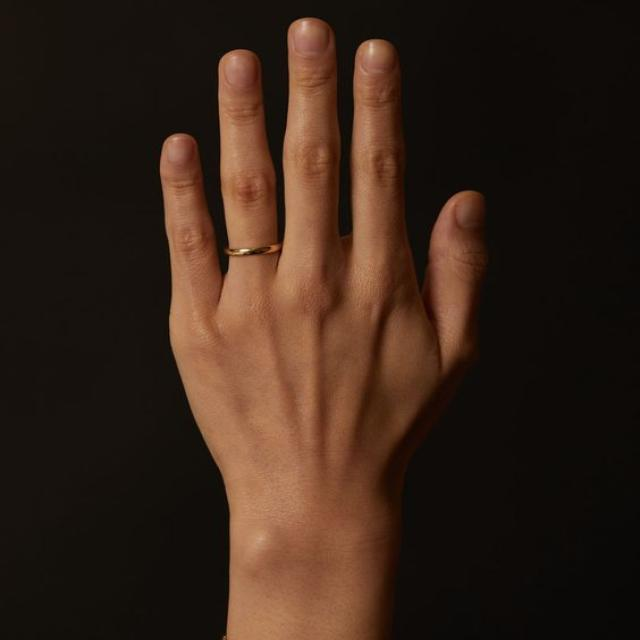Fingernail: (225, 54, 258, 91), (295, 21, 328, 56), (361, 41, 394, 74), (457, 195, 484, 230), (165, 137, 193, 166)
